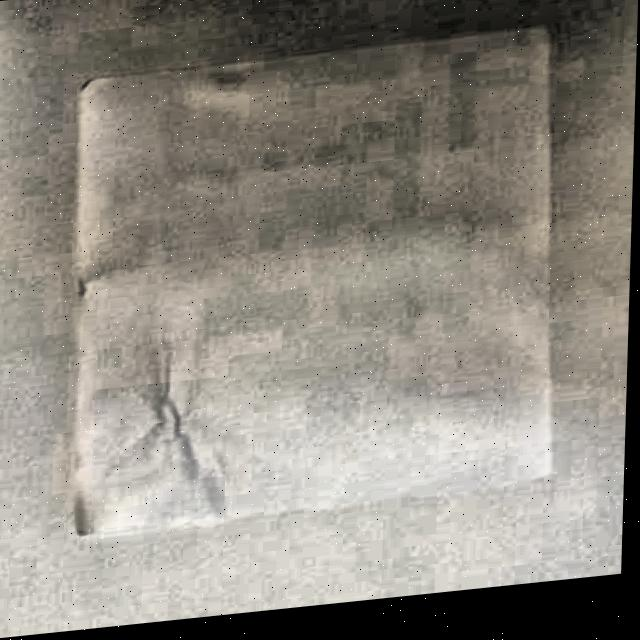paper: (60, 20, 590, 540)
